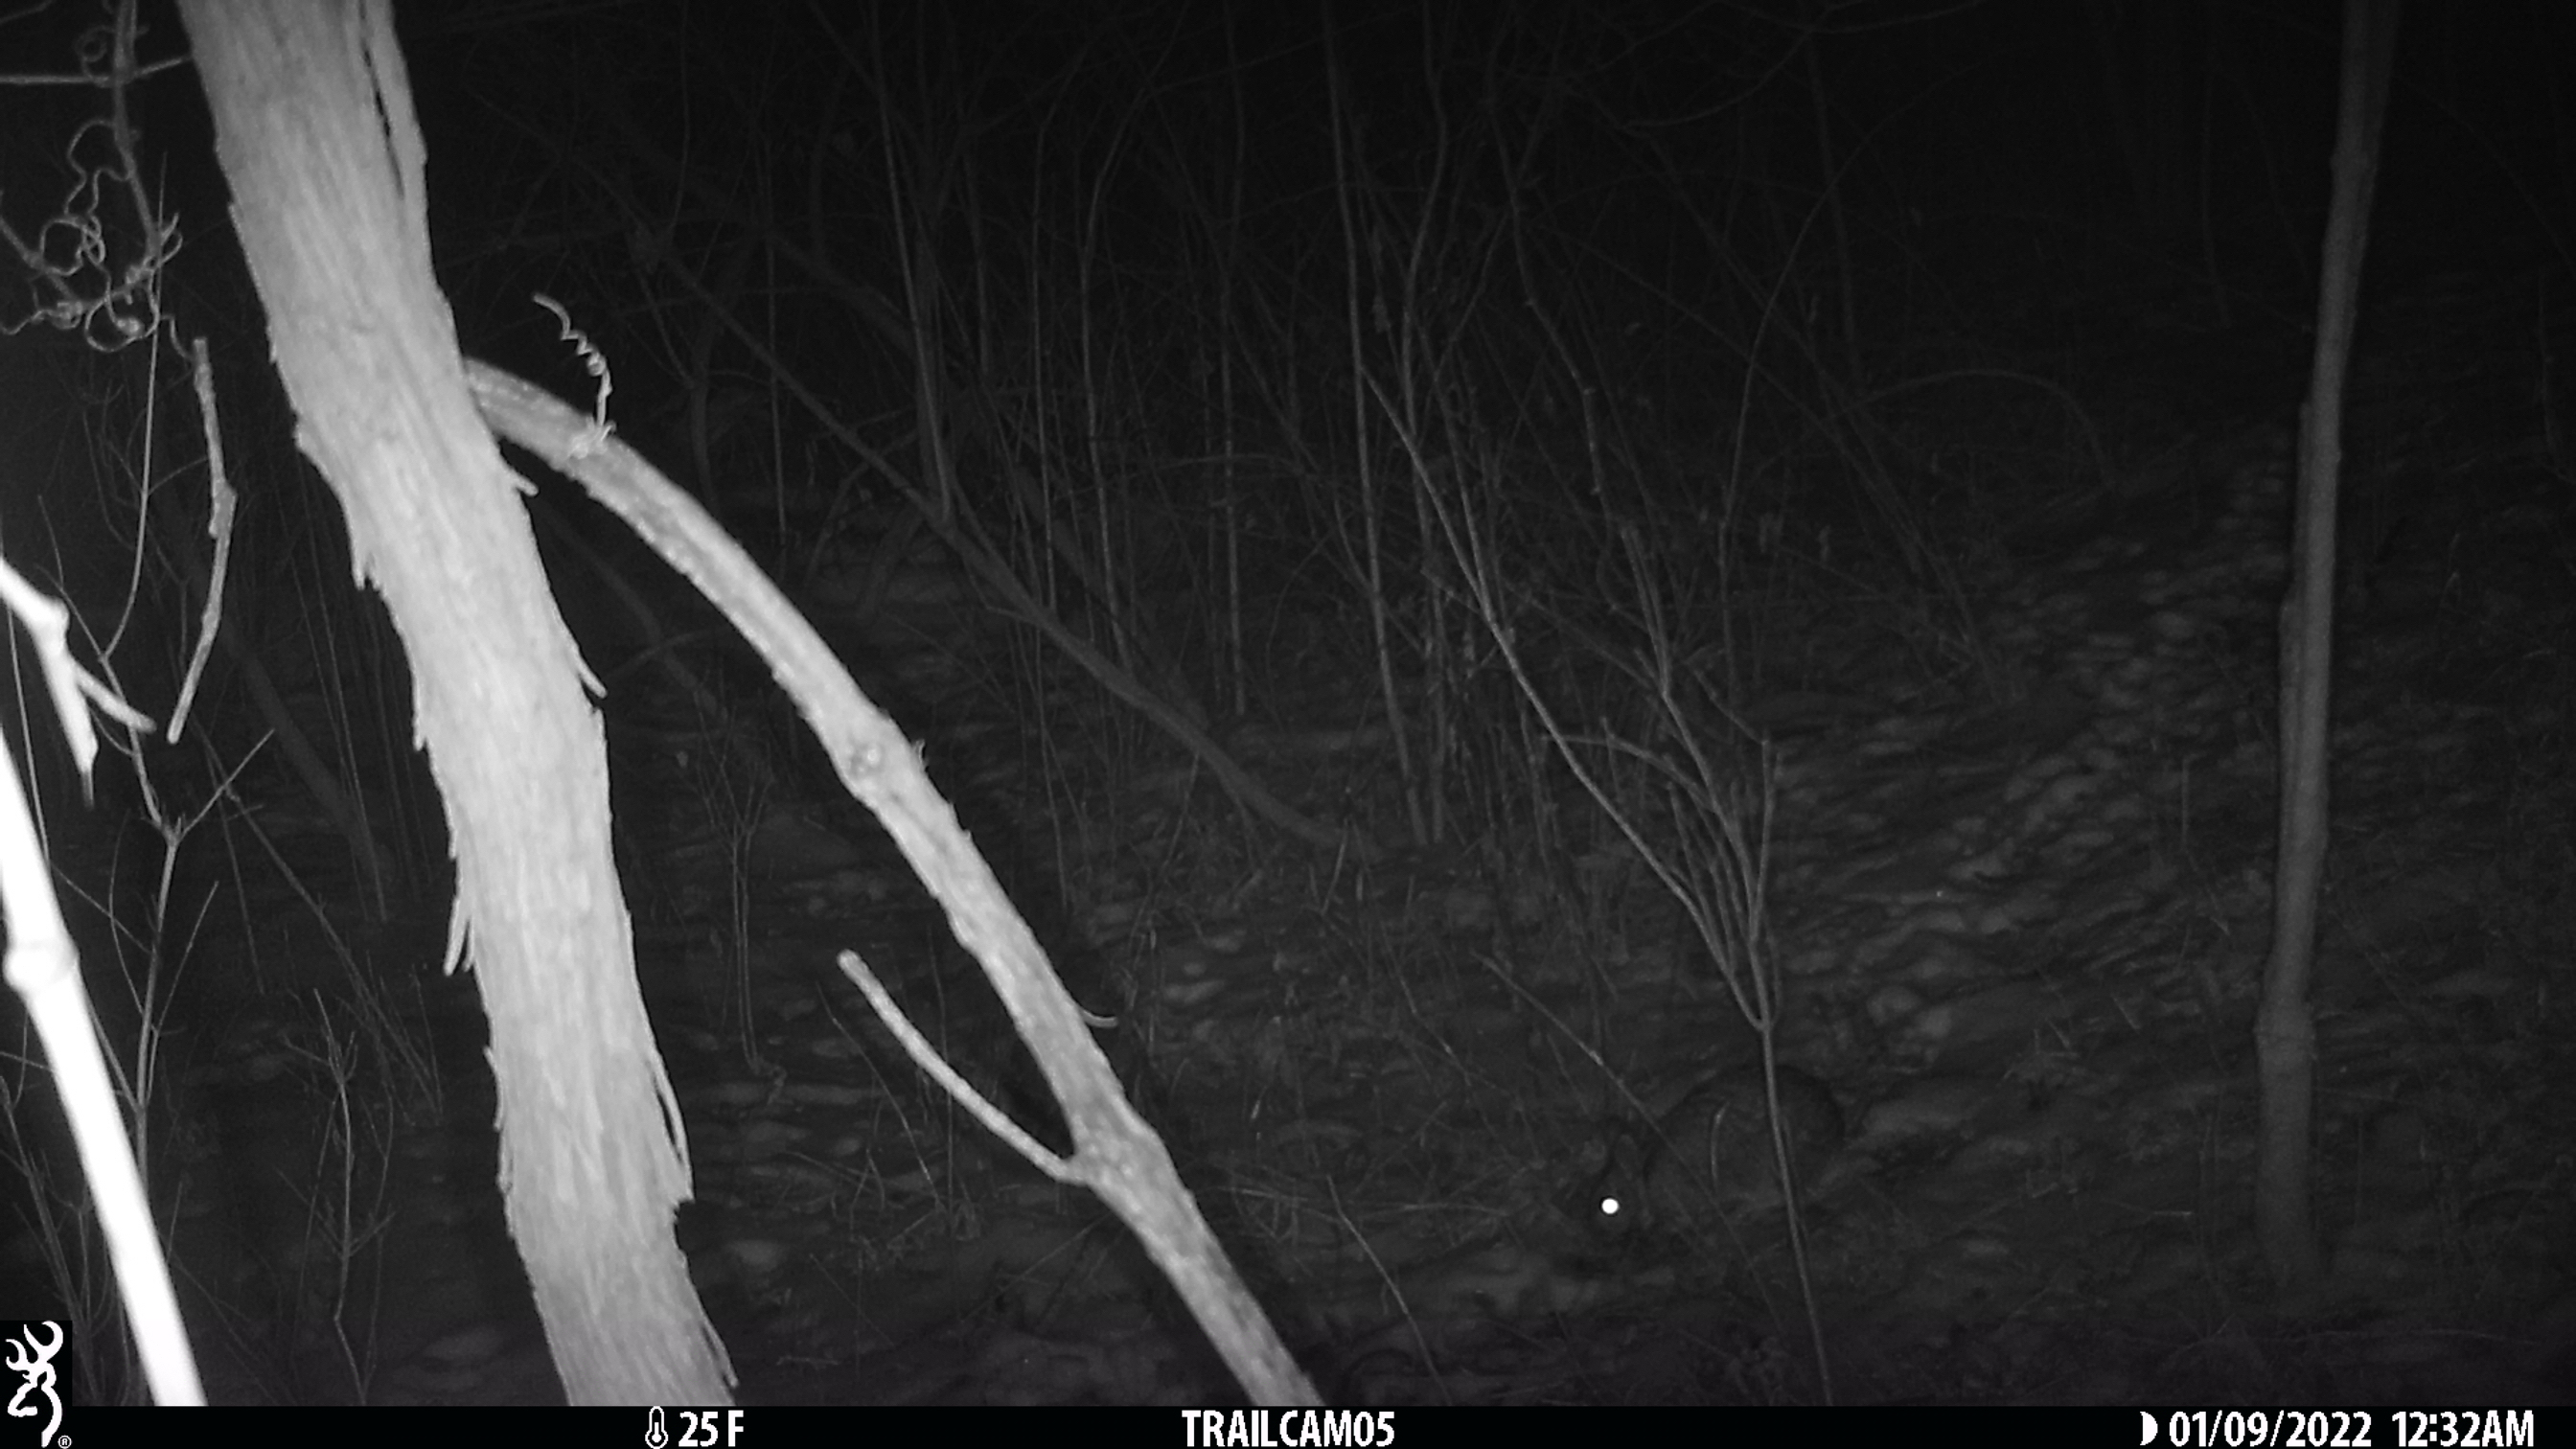Rabbit: (1578, 1060, 1851, 1249)
